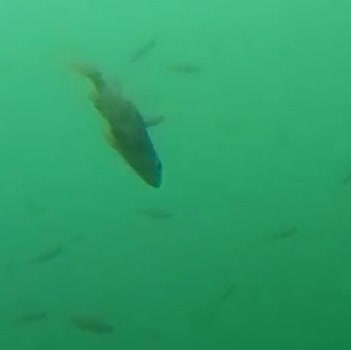smallfish: (88, 73, 168, 192)
